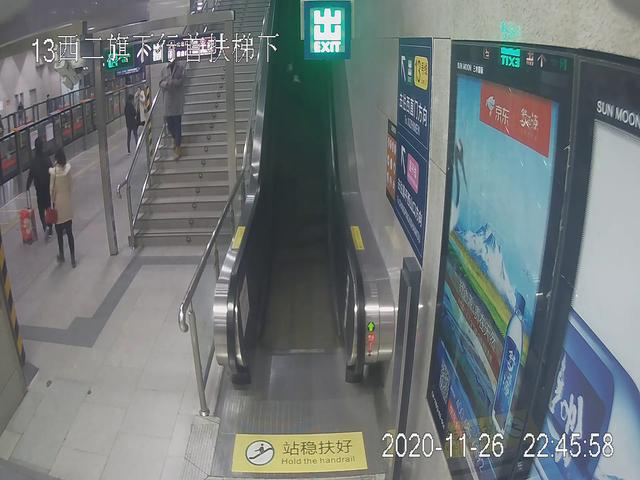person: (46, 149, 85, 265), (157, 46, 184, 163), (28, 135, 54, 235), (124, 94, 138, 160)
